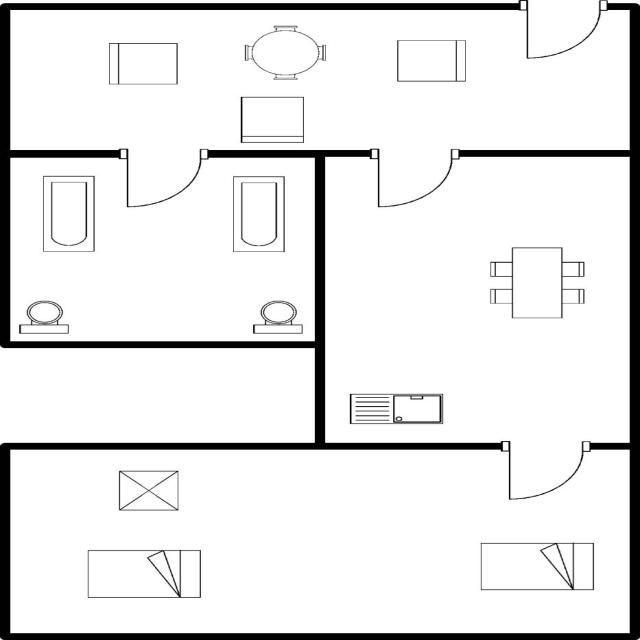bed: (472, 536, 600, 595), (77, 544, 206, 602)
coffee_table: (113, 467, 184, 514)
dining_table: (480, 241, 589, 324)
large_sink: (13, 296, 79, 336), (244, 297, 306, 338)
round_table: (239, 22, 335, 84)
sink: (339, 388, 451, 429)
small_sofa: (102, 38, 183, 90), (234, 92, 310, 146), (390, 35, 470, 85)
tub: (224, 171, 290, 257), (36, 172, 102, 256)
